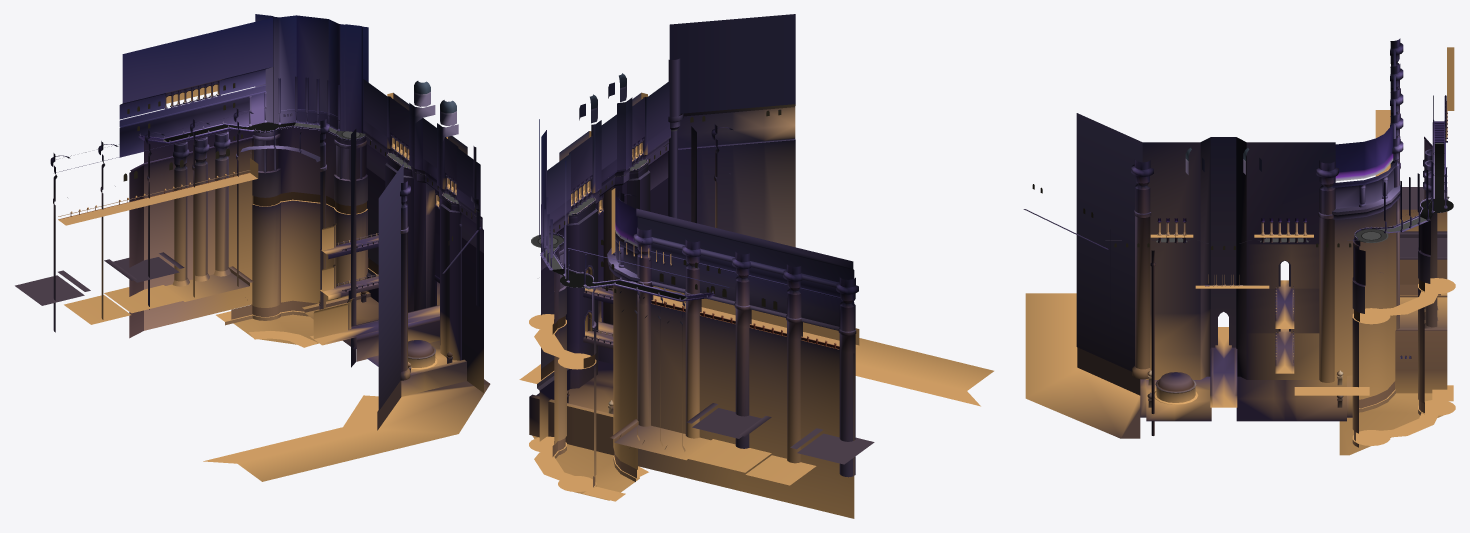
Rendered from 02Sidle.gltf.
3 views of the same model, side by side, from view 1: azimuth 30°, elevation 25°; view 2: azimuth 150°, elevation 25°; view 3: azimuth 270°, elevation 25° (orthographic). The views are drawn at different scales.
Parts seen in each view (by area): view 1: stg070_o03_Mesh_0104, stg070_o03_Mesh_0023, stg070_o03_Mesh_0138, stg070_o03_Mesh_0064, stg070_o03_Mesh_0134, stg070_p04_Mesh_0004, stg070_o03_Mesh_0085, stg070_o04_Mesh_0212, stg070_o03_Mesh_0121, stg070_p04_Mesh_0006, stg070_o03_Mesh_0129, stg070_g04_Mesh_0001; view 2: stg070_o03_Mesh_0104, stg070_o03_Mesh_0023, stg070_o03_Mesh_0134, stg070_o03_Mesh_0064, stg070_o03_Mesh_0138, stg070_o03_Mesh_0085, stg070_o03_Mesh_0121, stg070_g04_Mesh_0001, stg070_p04_Mesh_0004, stg070_w04_Mesh_0000, stg070_o03_Mesh_0129; view 3: stg070_o03_Mesh_0104, stg070_o03_Mesh_0023, stg070_o03_Mesh_0138, stg070_o03_Mesh_0064, stg070_o03_Mesh_0134, stg070_p04_Mesh_0004, stg070_g04_Mesh_0001, stg070_w04_Mesh_0000, stg070_o03_Mesh_0129, stg070_o03_Mesh_0085.
Boxes of the visible parts, box(x1,y1,x2,y2) form: stg070_o03_Mesh_0104: box(70, 14, 483, 392); stg070_o03_Mesh_0023: box(15, 27, 490, 481); stg070_o03_Mesh_0138: box(53, 17, 483, 410); stg070_o03_Mesh_0064: box(50, 17, 481, 380); stg070_o03_Mesh_0134: box(53, 134, 479, 371); stg070_p04_Mesh_0004: box(253, 92, 456, 430); stg070_o03_Mesh_0085: box(165, 77, 458, 307); stg070_o04_Mesh_0212: box(251, 16, 366, 133); stg070_o03_Mesh_0121: box(70, 16, 455, 368); stg070_p04_Mesh_0006: box(231, 258, 378, 319); stg070_o03_Mesh_0129: box(53, 106, 455, 286); stg070_g04_Mesh_0001: box(164, 122, 295, 141); stg070_o03_Mesh_0104: box(529, 14, 854, 518); stg070_o03_Mesh_0023: box(519, 73, 993, 501); stg070_o03_Mesh_0134: box(571, 58, 856, 477); stg070_o03_Mesh_0064: box(529, 83, 858, 449); stg070_o03_Mesh_0138: box(529, 81, 859, 455); stg070_o03_Mesh_0085: box(560, 137, 854, 323); stg070_o03_Mesh_0121: box(539, 104, 836, 441); stg070_g04_Mesh_0001: box(551, 269, 685, 299); stg070_p04_Mesh_0004: box(552, 82, 636, 478); stg070_w04_Mesh_0000: box(531, 159, 647, 289); stg070_o03_Mesh_0129: box(541, 124, 858, 451); stg070_o03_Mesh_0104: box(1142, 96, 1447, 447); stg070_o03_Mesh_0023: box(1025, 47, 1455, 455); stg070_o03_Mesh_0138: box(1076, 40, 1447, 402); stg070_o03_Mesh_0064: box(1023, 41, 1447, 417); stg070_o03_Mesh_0134: box(1110, 80, 1437, 435); stg070_p04_Mesh_0004: box(1077, 158, 1440, 408); stg070_g04_Mesh_0001: box(1420, 144, 1453, 220); stg070_w04_Mesh_0000: box(1156, 196, 1449, 242); stg070_o03_Mesh_0129: box(1134, 38, 1446, 328); stg070_o03_Mesh_0085: box(1158, 95, 1446, 358).
Size of the model in its own units: 220 by 215 by 213.
